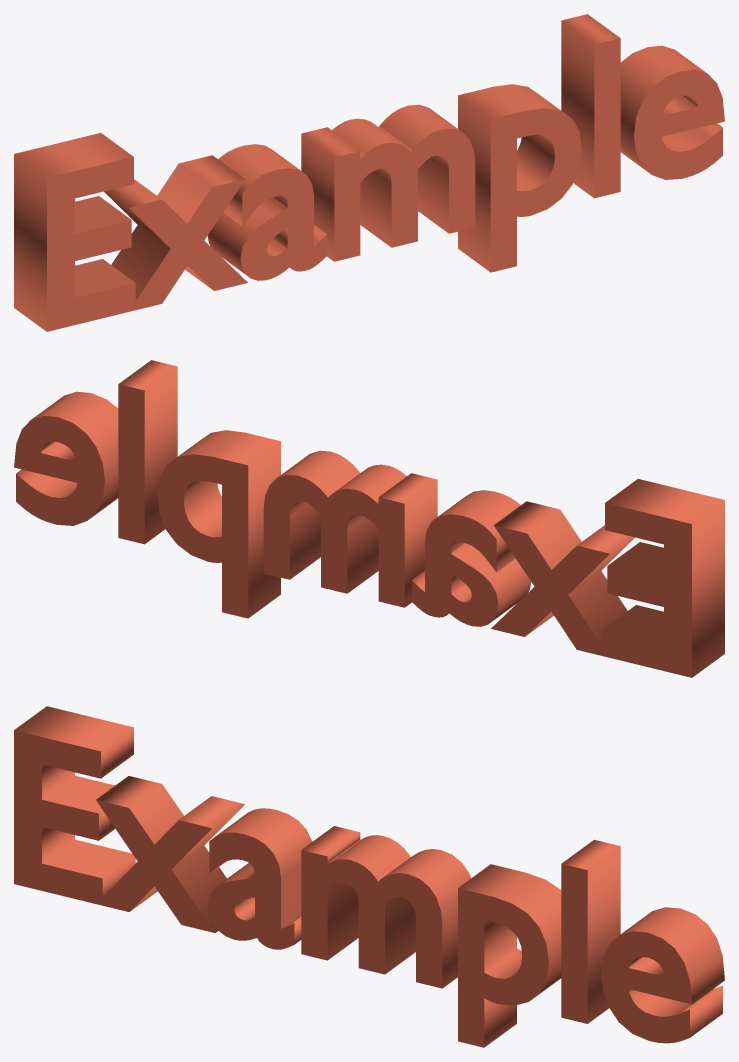
3 renders of one model, top to bottom at view 1: azimuth 30°, elevation 25°; view 2: azimuth 150°, elevation 25°; view 3: azimuth 330°, elevation 25°, orthographic.
Parts seen in each view (by area): view 1: Text; view 2: Text; view 3: Text.
Boxes of the visible parts, x1,y1,x2,y2 form: Text: (14,14,724,331); Text: (14,360,724,677); Text: (14,706,724,1047).
Bounding box in the file's own units: 5.99 × 1.71 × 0.5037.
